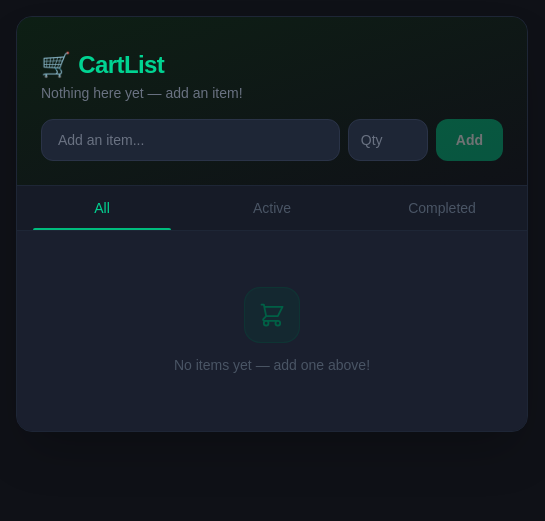
Test case: TodoApp › Empty state › renders empty state for Completed filter when no items are complete
In the field with placeholder "Add an item...": (190, 140) top-left (41, 119), bottom-right (340, 161), type "Pending task"
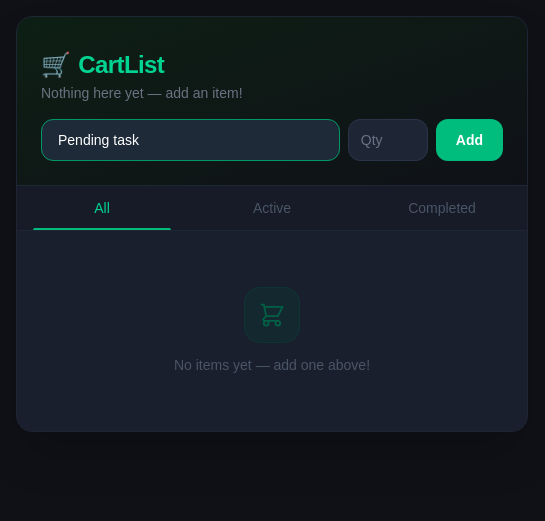
Press Enter
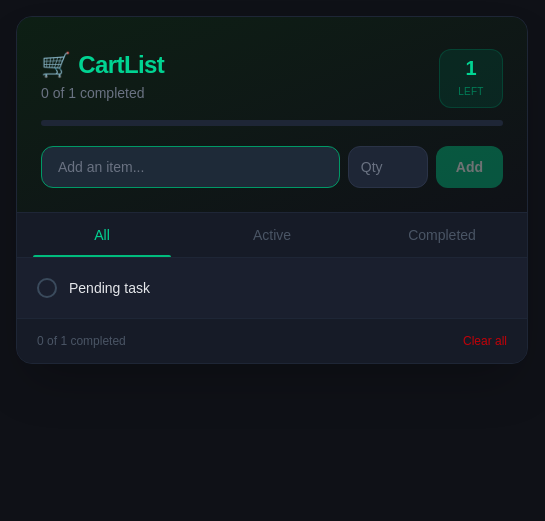
Click the button "Completed": (442, 235) top-left (357, 213), bottom-right (527, 257)
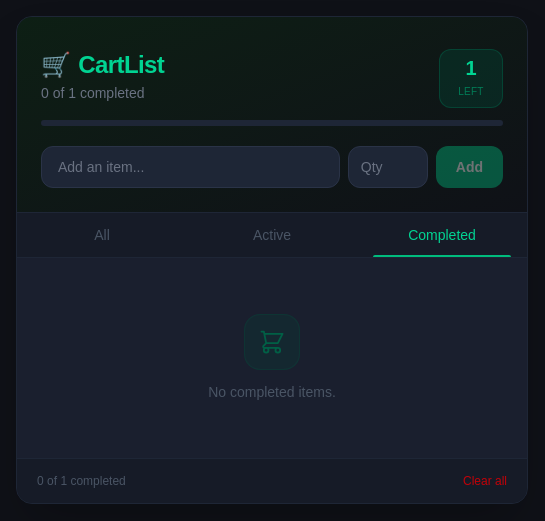
Expected: the text "No completed items." is shown, top-left (208, 382), bottom-right (336, 402)
